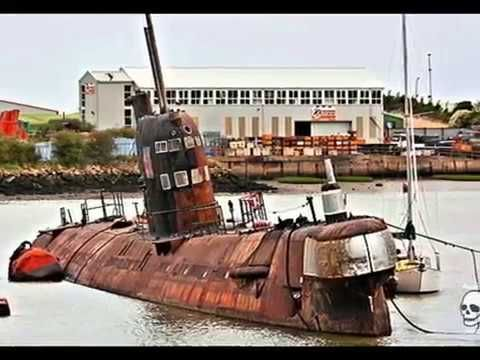rust: (237, 231, 298, 316), (64, 229, 137, 287), (173, 185, 217, 236)
